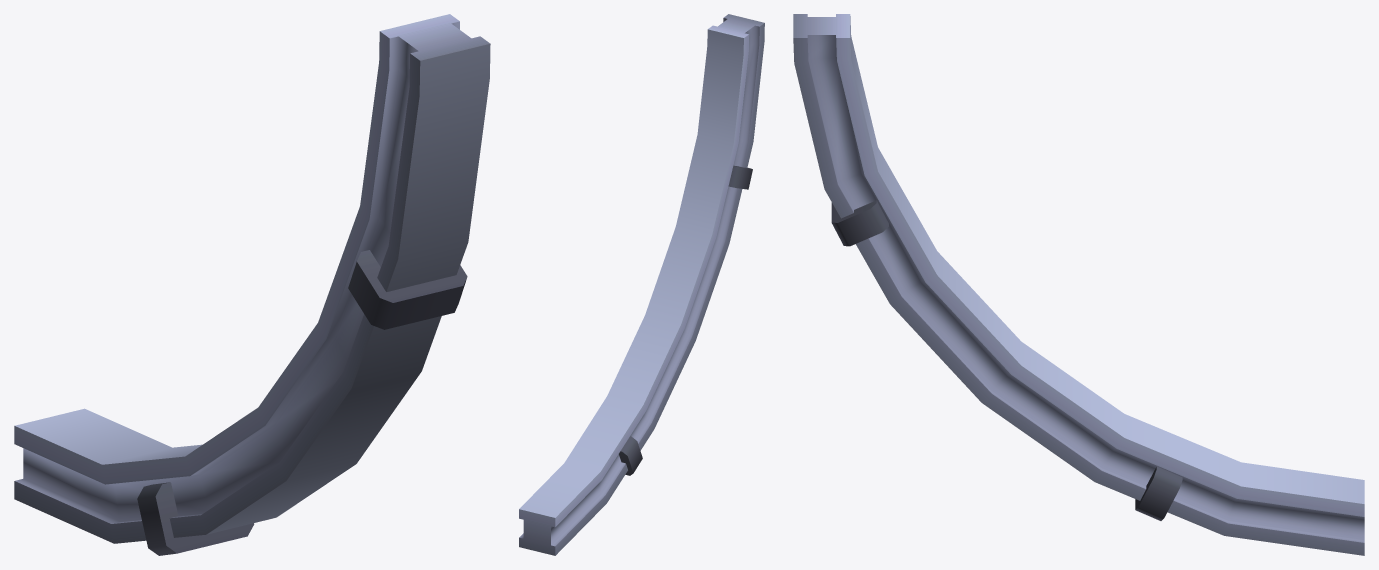
File: kenney-coaster-coaster-monorail-straight-bend.glb
The picture shows the model from 3 angles, left to right: view 1: azimuth 30°, elevation 25°; view 2: azimuth 150°, elevation 25°; view 3: azimuth 270°, elevation 25°; orthographic projection. The views are drawn at different scales.
Visible parts, largest first — view 1: coaster-monorail-straight-bend; view 2: coaster-monorail-straight-bend; view 3: coaster-monorail-straight-bend.
Boxes of the visible parts, left/top/right/bottom form: coaster-monorail-straight-bend: left=14, top=14, right=490, bottom=555; coaster-monorail-straight-bend: left=519, top=14, right=764, bottom=555; coaster-monorail-straight-bend: left=793, top=14, right=1364, bottom=555.
Size of the model in its own units: 0.25 by 2 by 2.
1 material, 1 textured.
